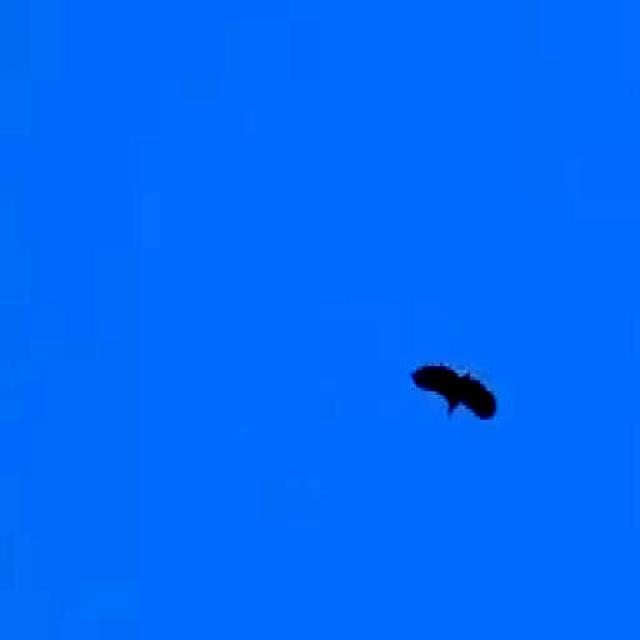airplane: (402, 332, 512, 459)
